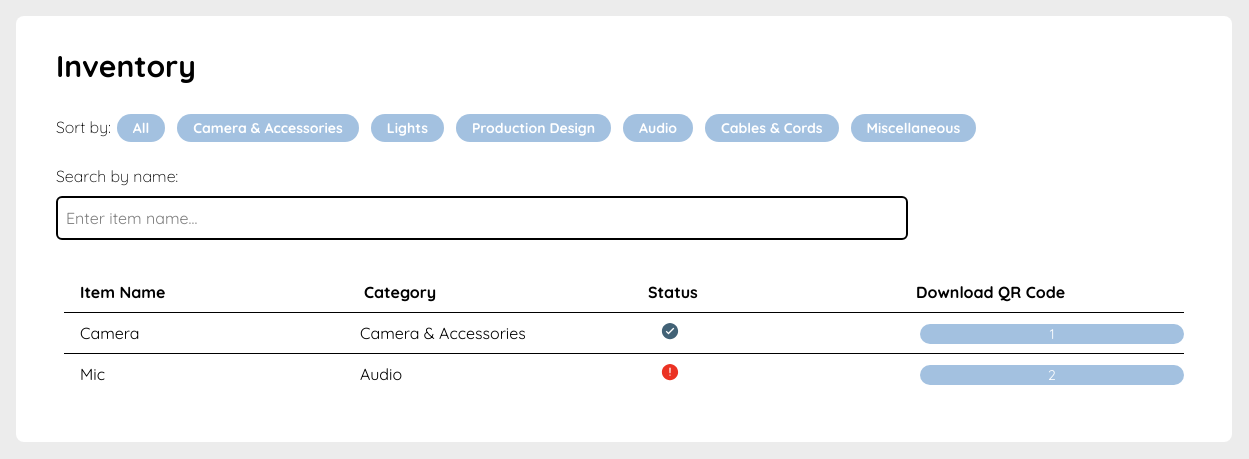
Test case: Inventory › filters items when search term is entered
Type "Camera" into the field with placeholder "Enter item name..." at (482,218), box [56,196,908,240]
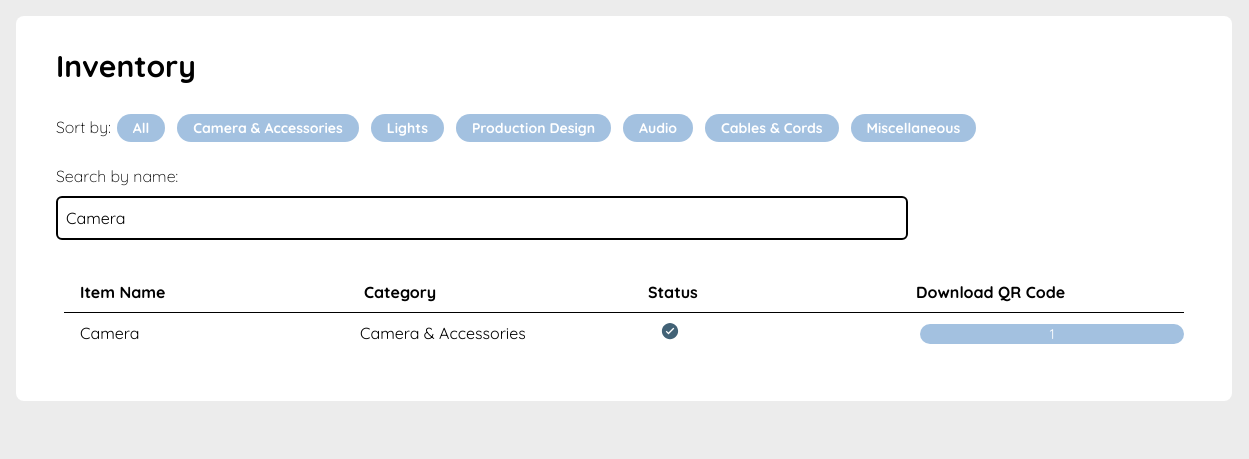
Expected: the text "Camera" is shown, [80,323,140,343]
Expected: the text "Mic" is gone
